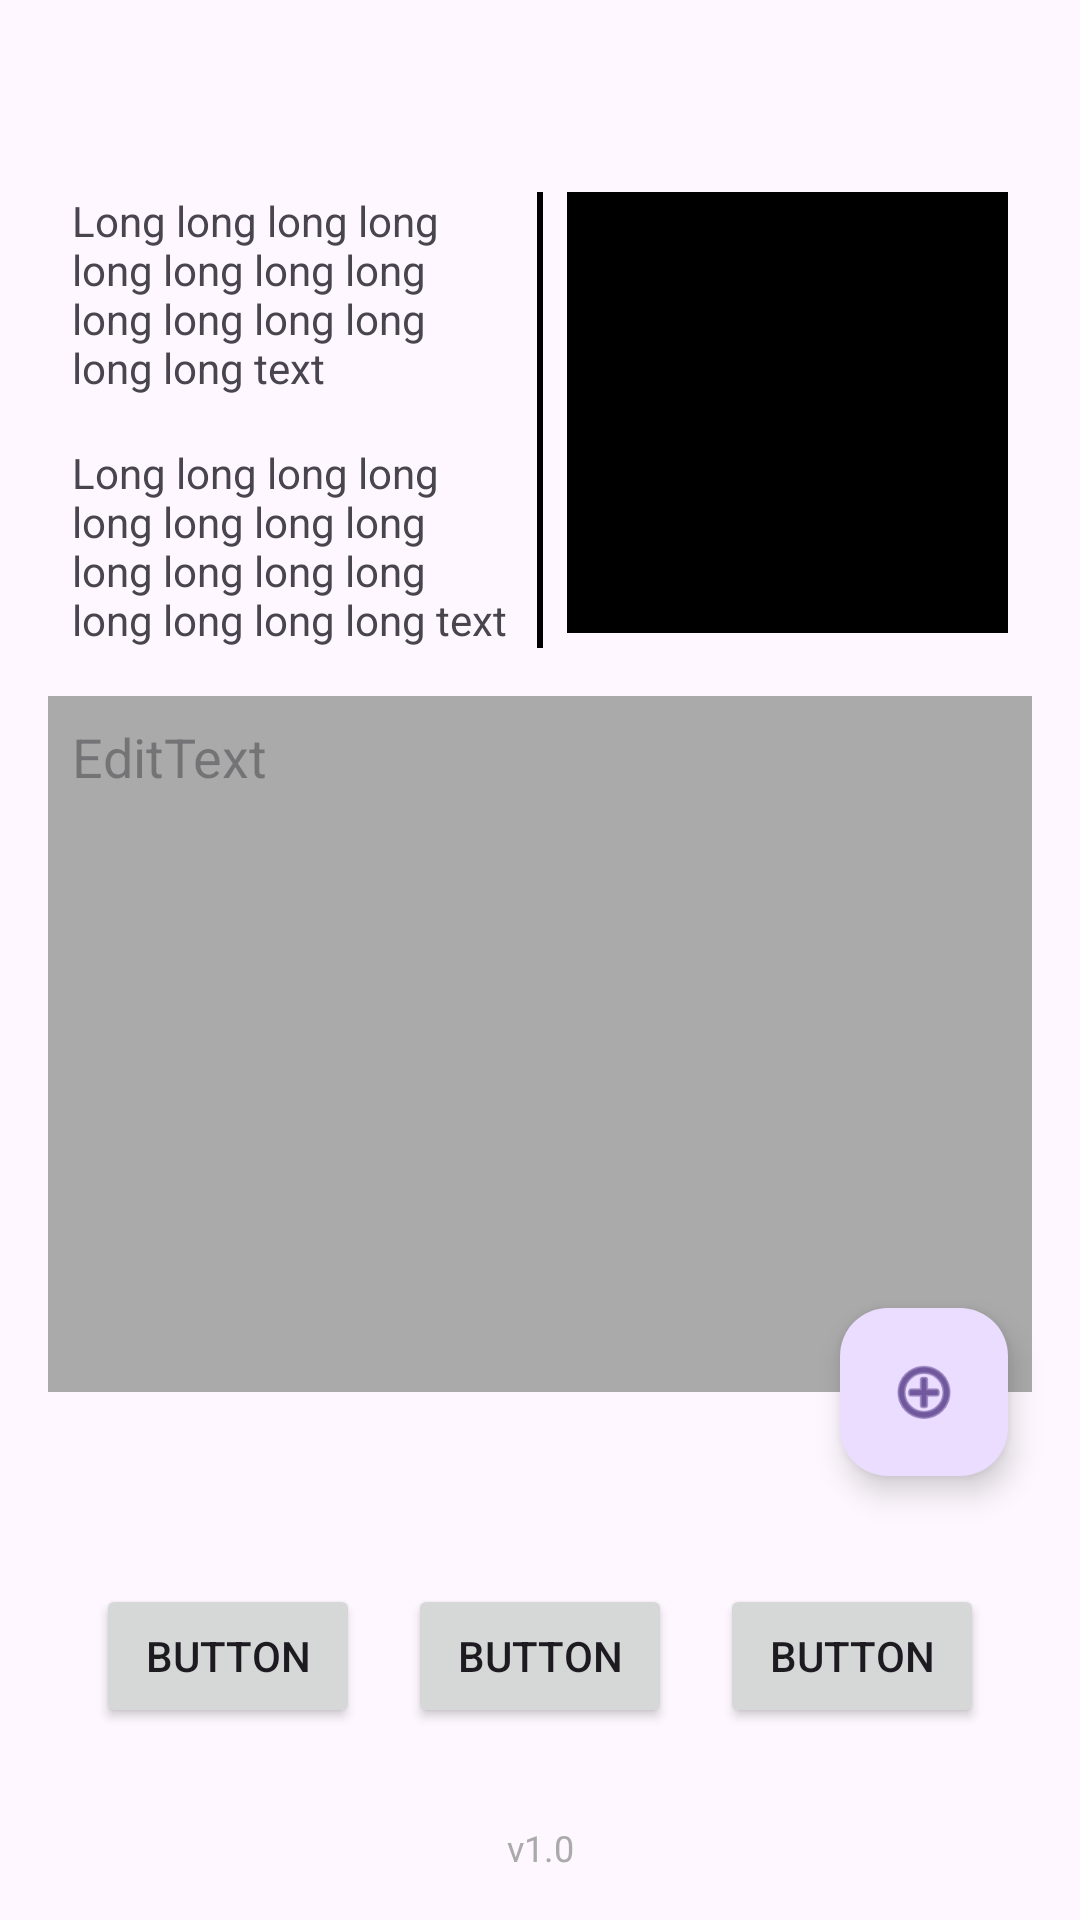

Named icons in this screenshot (1080x1920) and their centers, [x,y]:
add: [924,1392]
